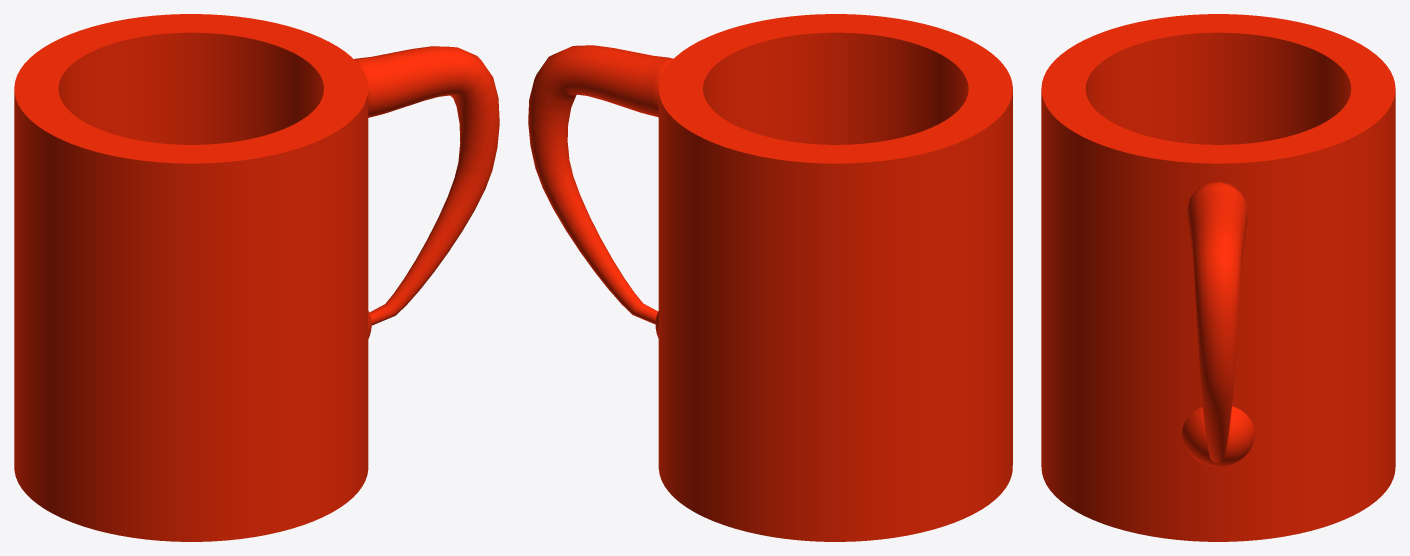
The model's file is Mug.fbx.
The picture shows the model from 3 angles, left to right: view 1: azimuth 30°, elevation 25°; view 2: azimuth 150°, elevation 25°; view 3: azimuth 270°, elevation 25°; orthographic projection.
Visible parts, largest first — view 1: Mug; view 2: Mug; view 3: Mug.
Boxes of the visible parts, box(x1,y1,x2,y2) form: Mug: box(14, 14, 499, 541); Mug: box(528, 14, 1012, 541); Mug: box(1041, 14, 1395, 541).
Size of the model in its own units: 26.99 by 21.27 by 18.05.
